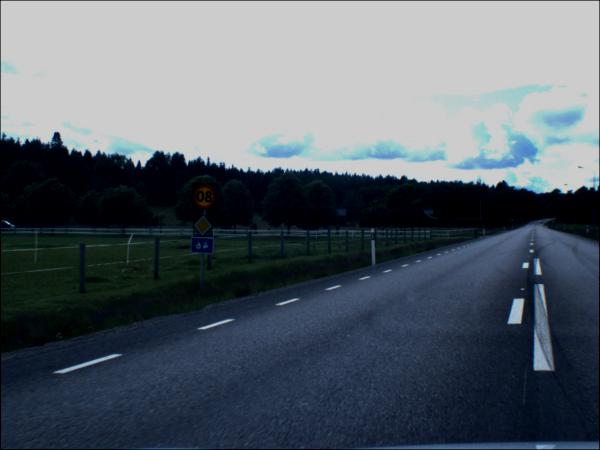80_SIGN: (192, 184, 219, 212)
PRIORITY_ROAD: (193, 216, 214, 239)
